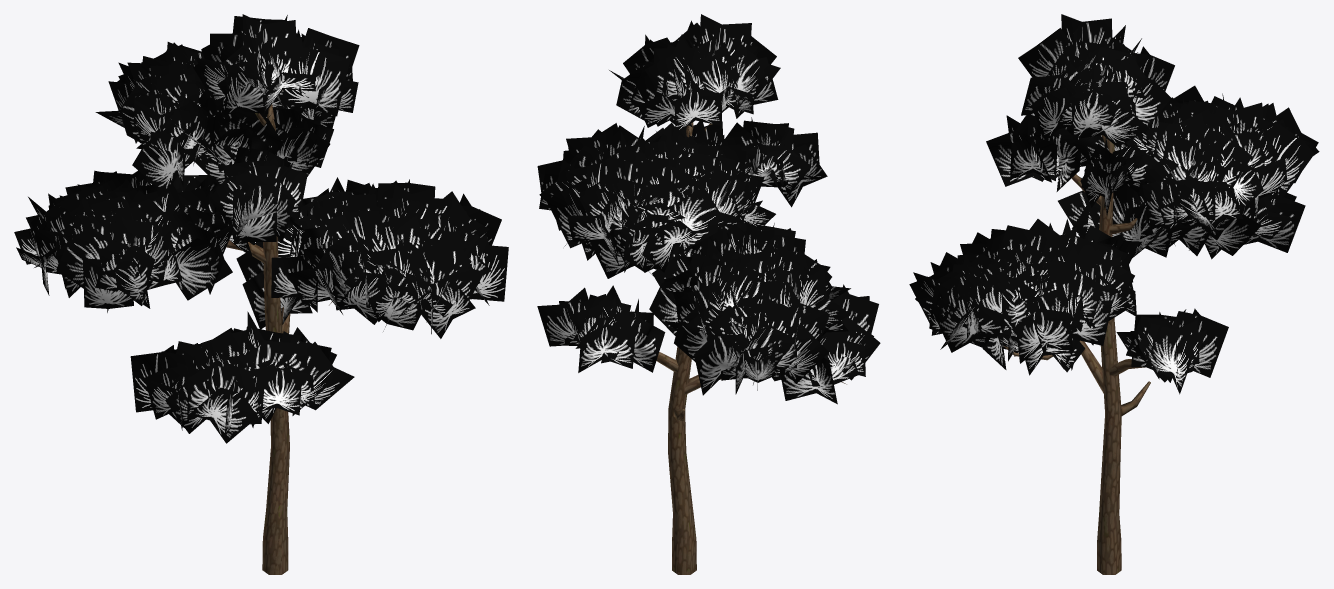
Rendered from P_ChinaPine02.obj.
The picture shows the model from 3 angles, left to right: view 1: azimuth 30°, elevation 25°; view 2: azimuth 150°, elevation 25°; view 3: azimuth 270°, elevation 25°; orthographic projection. The views are drawn at different scales.
Size of the model in its own units: 12.01 by 17.13 by 11.84.
